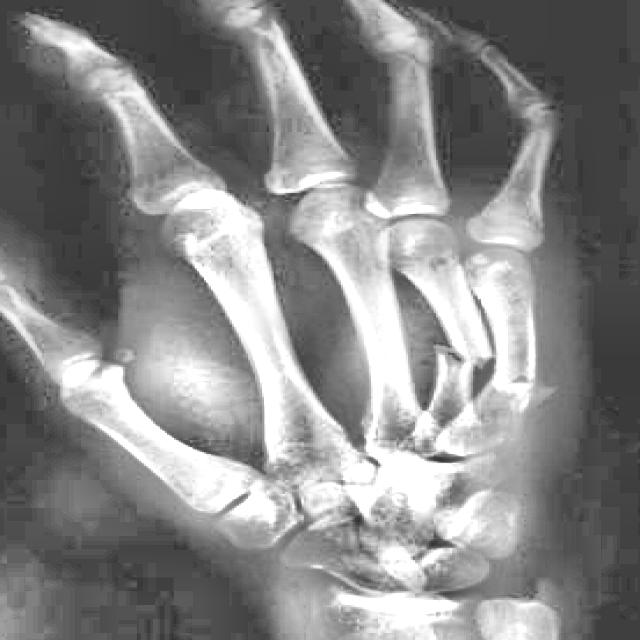fracture: (487, 374, 550, 405), (440, 346, 484, 376)
